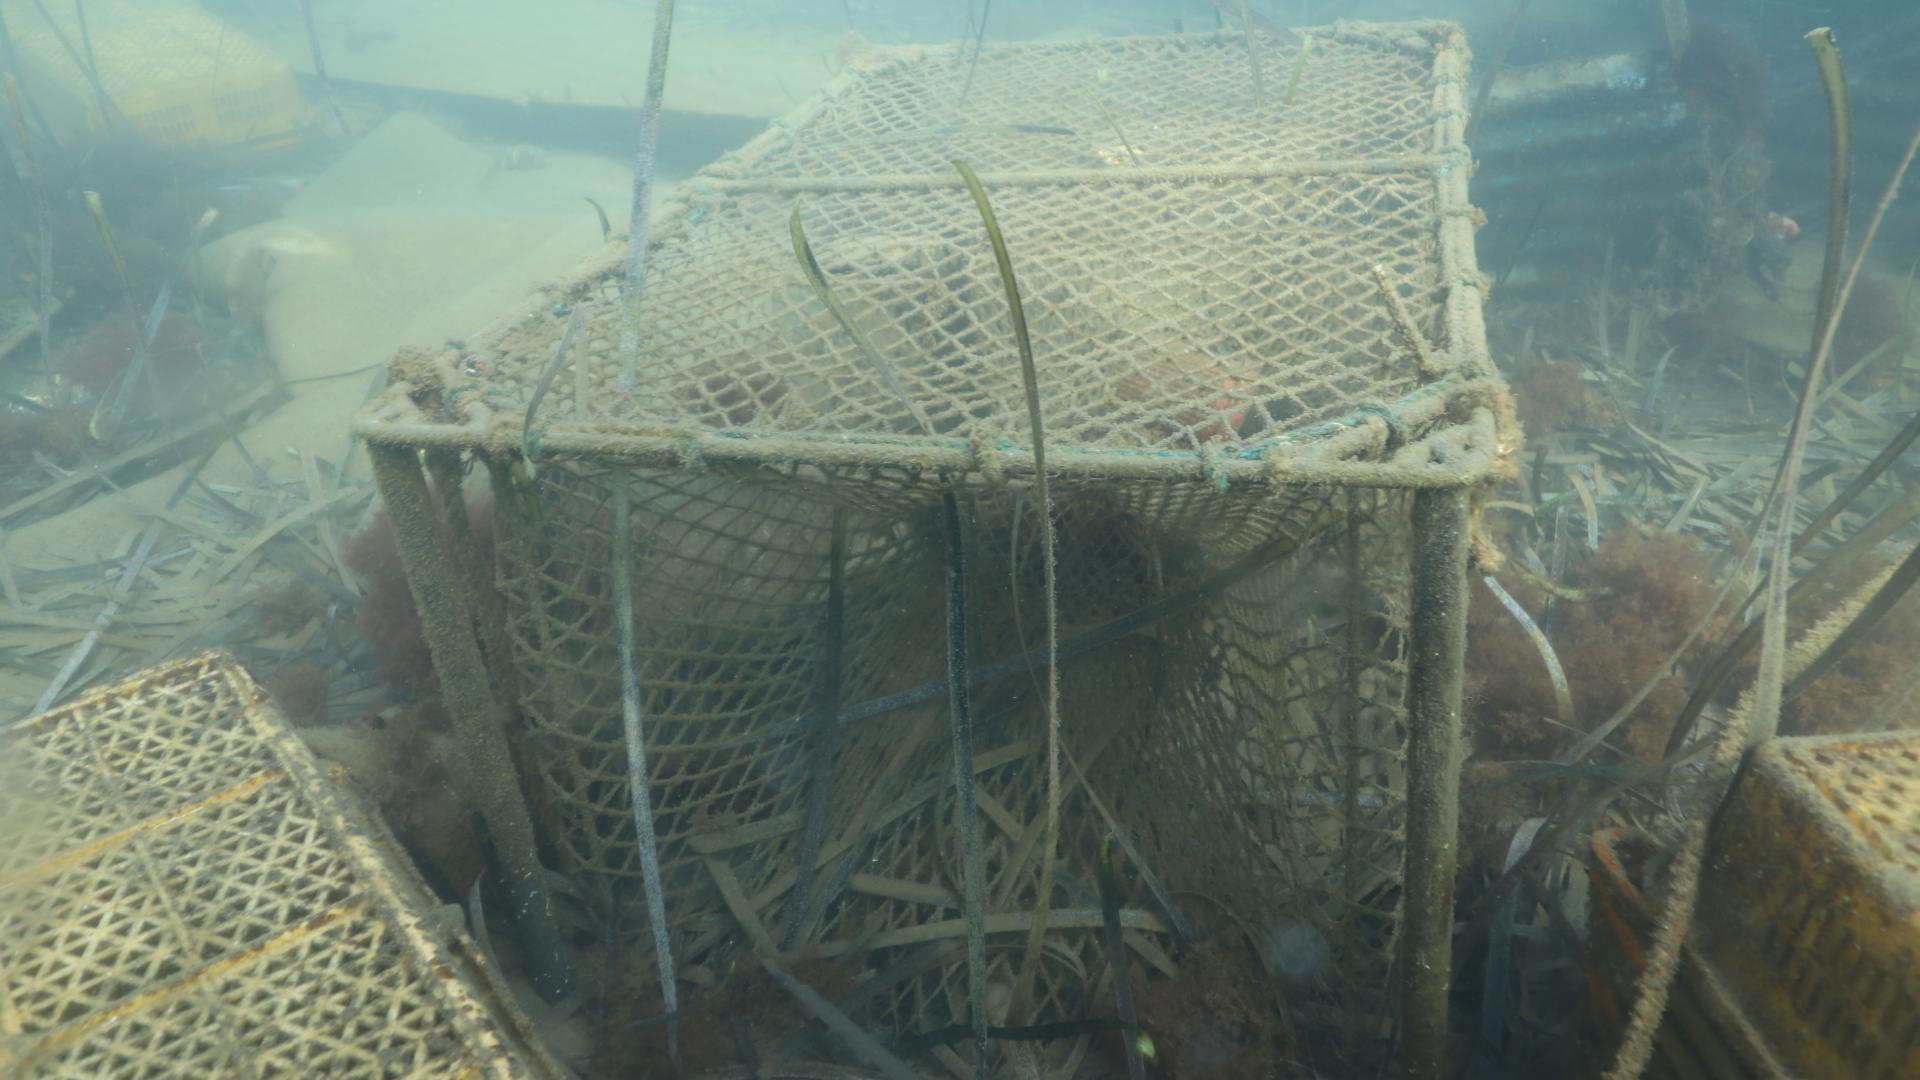rectangular fish trap: (351, 18, 1502, 1080)
rope: (1604, 537, 1911, 1080)
